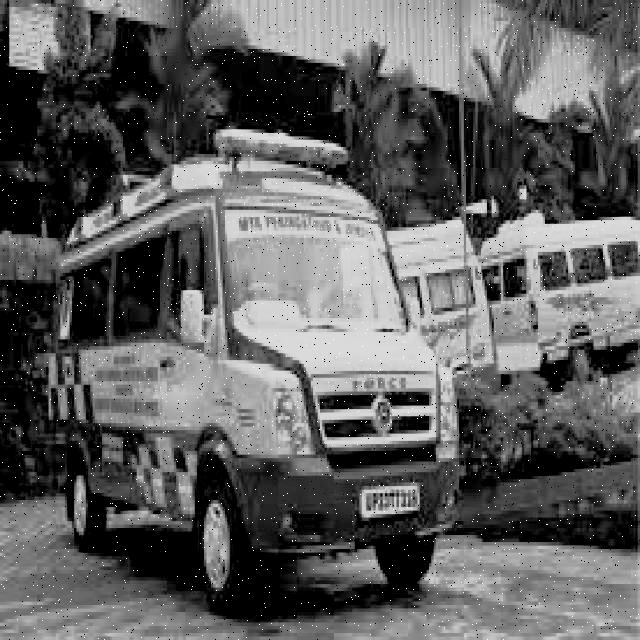LCV: (196, 128, 464, 552)
